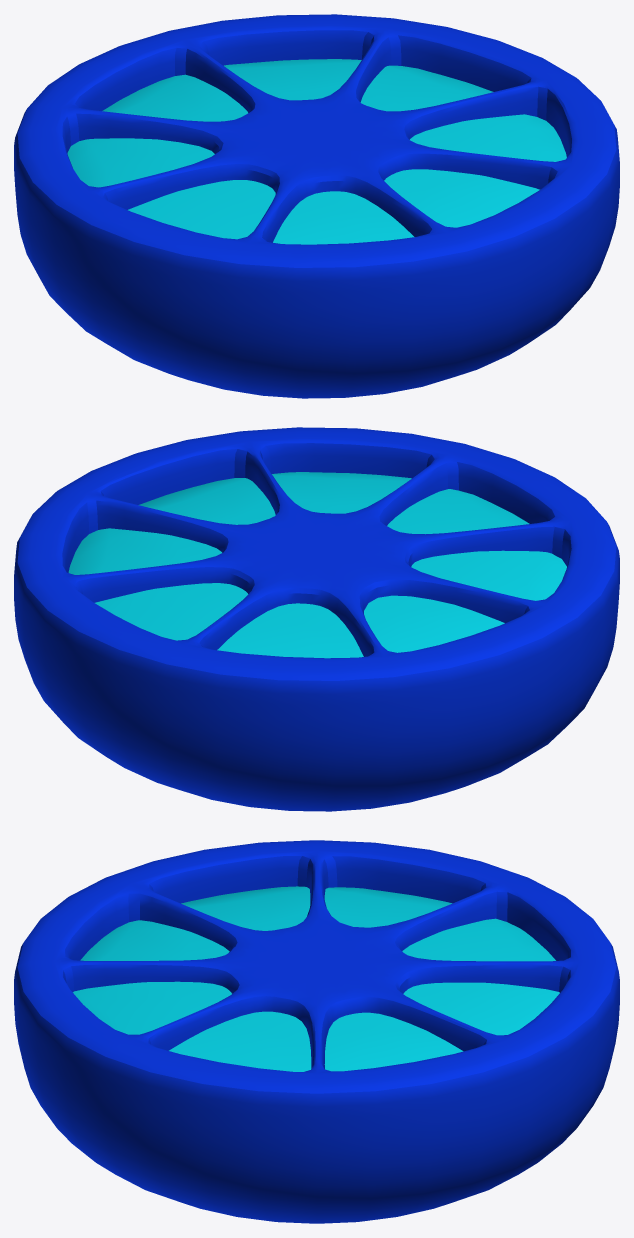
The model's file is Lemon.fbx.
3 renders of one model, top to bottom at view 1: azimuth 30°, elevation 25°; view 2: azimuth 150°, elevation 25°; view 3: azimuth 270°, elevation 25°, orthographic.
Parts seen in each view (by area): view 1: Lemon.001; view 2: Lemon.001; view 3: Lemon.001.
Boxes of the visible parts, bbox=[...] form: Lemon.001: bbox=[14, 14, 619, 398]; Lemon.001: bbox=[14, 427, 619, 811]; Lemon.001: bbox=[14, 840, 619, 1223].
Bounding box in the file's own units: 52.18 × 22.98 × 52.18.
